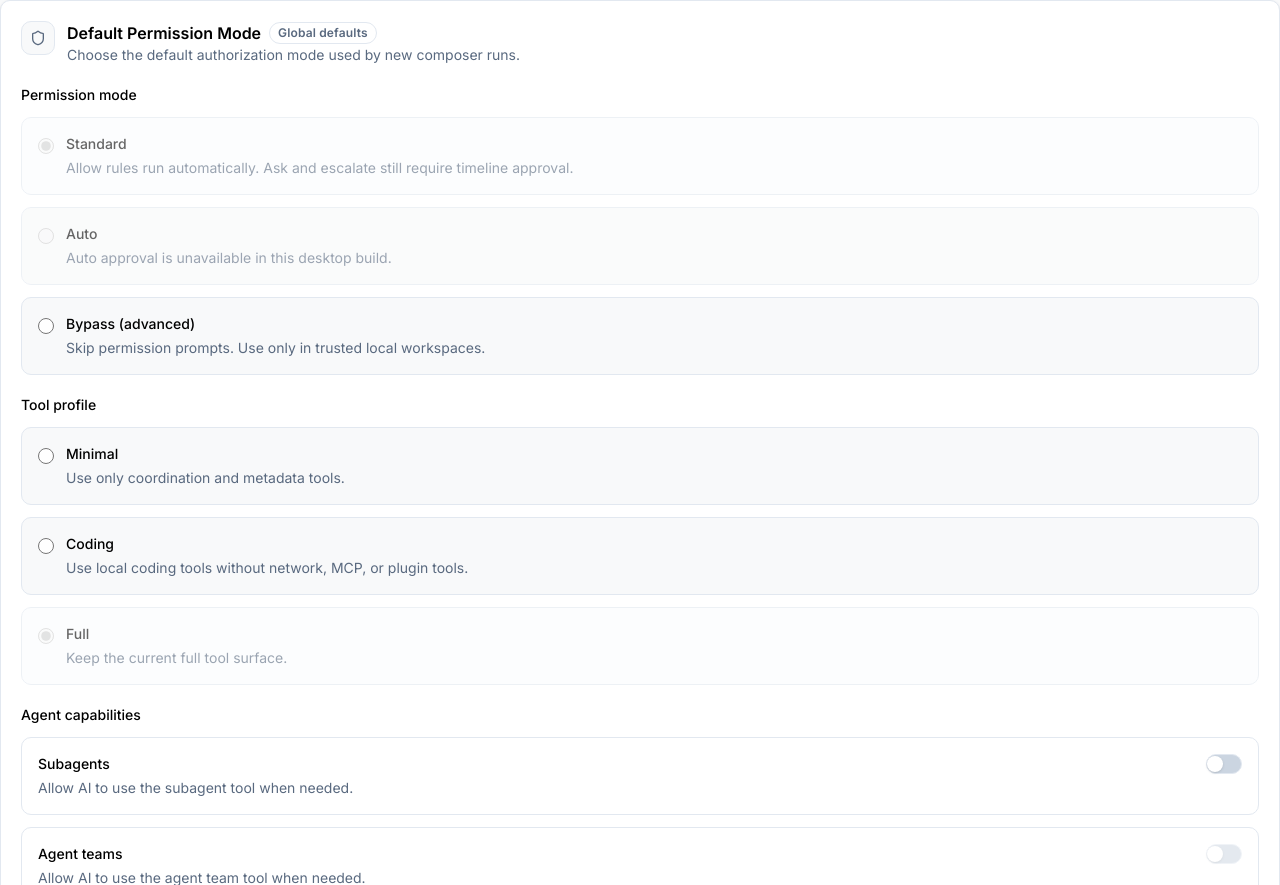
Test: ExecutionSettings › refetches backend truth and shows a safe error when saving agent switches fails
Click the switch named "Subagents" in the row of "Subagents". click: (1224, 764)
box: x1=1206 y1=754 x2=1242 y2=774
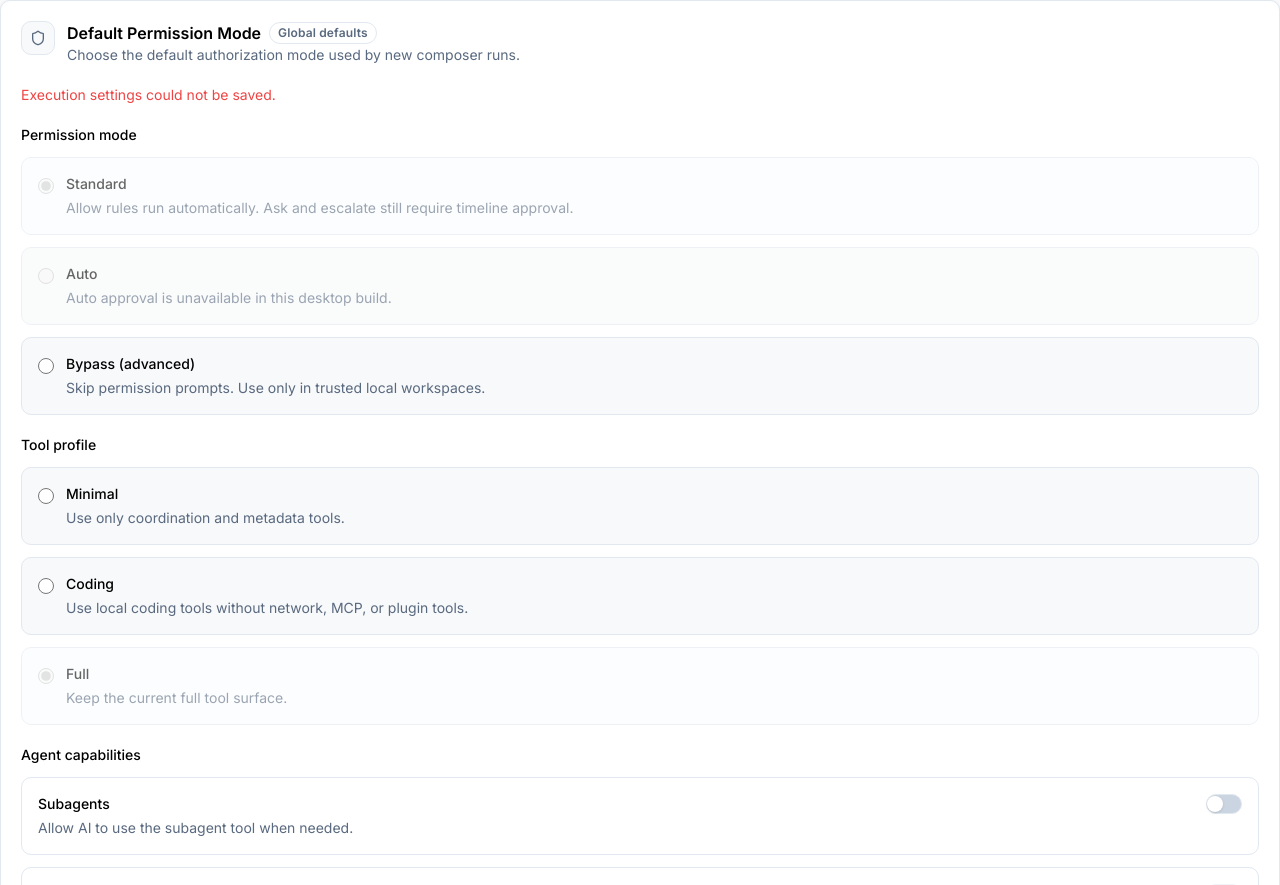
Expected: the switch named "Subagents" in the row of "Subagents" is not checked, x1=1206 y1=794 x2=1242 y2=814
Now the text "Execution settings could not be saved." is shown, box x1=21 y1=86 x2=276 y2=103
